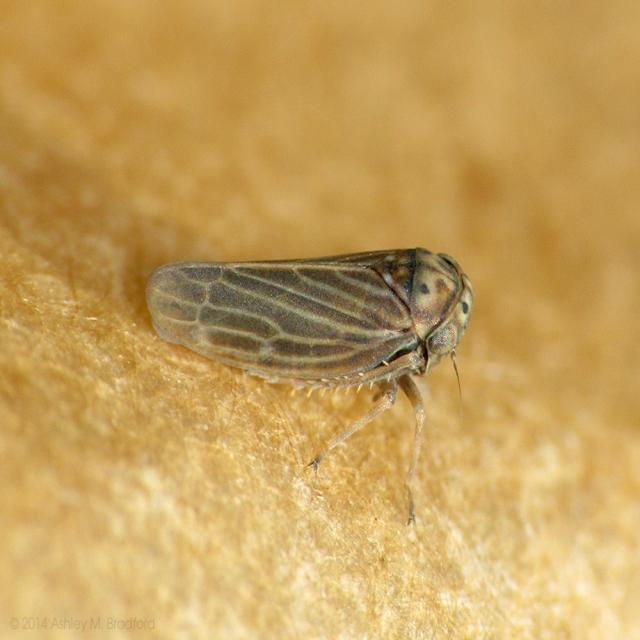Yechan: (115, 239, 496, 382)
